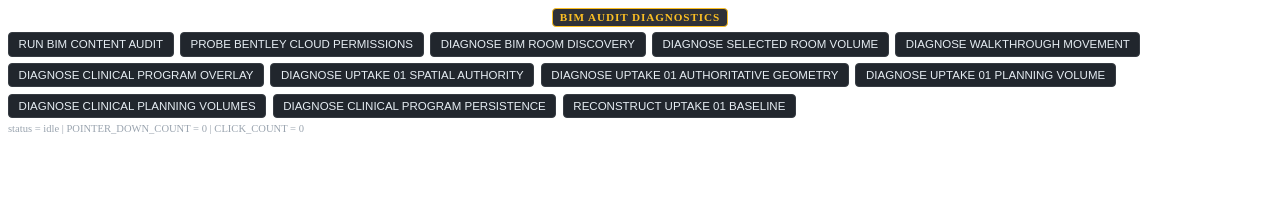
Test: Build 1A walkthrough §21 — movement diagnostic wired into the live panel › records the synchronous CLICK counter (never a silent no-op)
Click the button "DIAGNOSE WALKTHROUGH MOVEMENT". click: (1018,44)
box: top-left (895, 32), bottom-right (1140, 57)
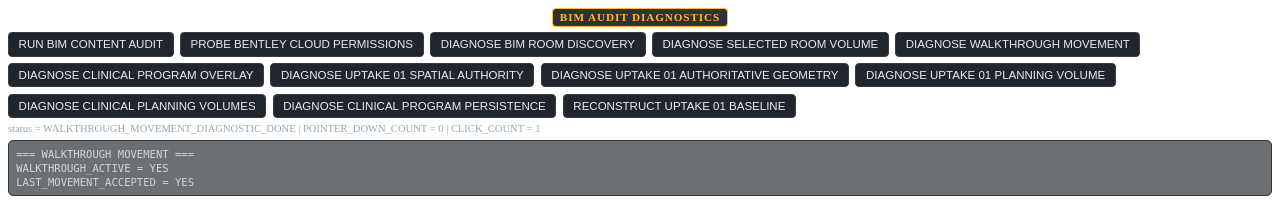
Check: the text "CLICK_COUNT = 1" is shown, box top-left (8, 123), bottom-right (540, 134)
